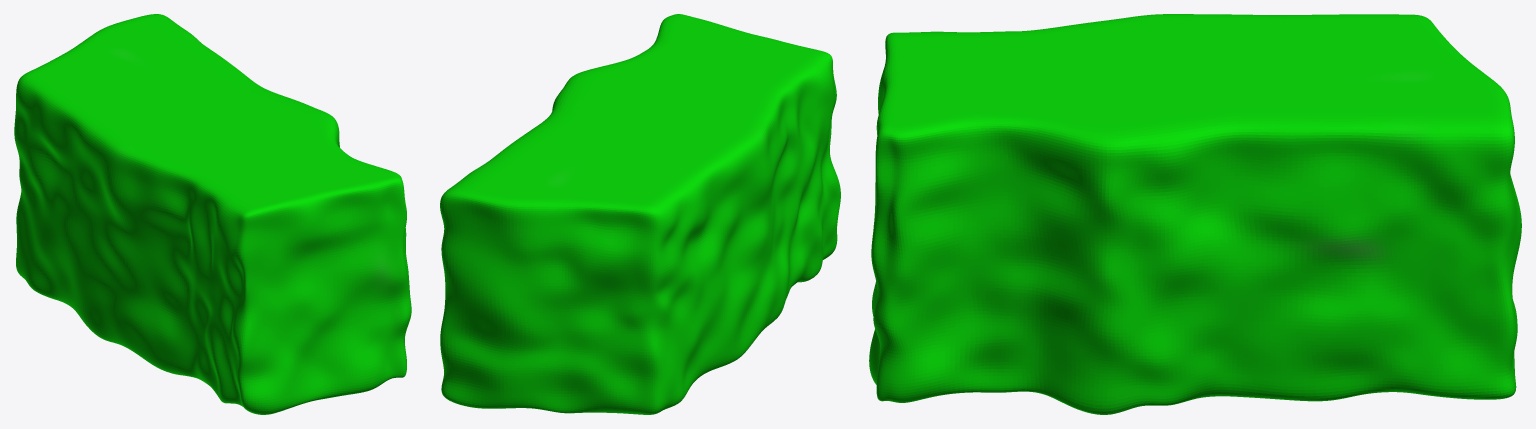
The model's file is level_one_rock_wall_2.fbx.
3 renders of one model, left to right at view 1: azimuth 30°, elevation 25°; view 2: azimuth 150°, elevation 25°; view 3: azimuth 270°, elevation 25°, orthographic. The views are drawn at different scales.
Parts seen in each view (by area): view 1: RockWall02; view 2: RockWall02; view 3: RockWall02.
Boxes of the visible parts, bbox=[...] form: RockWall02: bbox=[14, 14, 411, 414]; RockWall02: bbox=[440, 14, 840, 414]; RockWall02: bbox=[869, 14, 1521, 414].
Bounding box in the file's own units: 1872 × 3708 × 1764.
